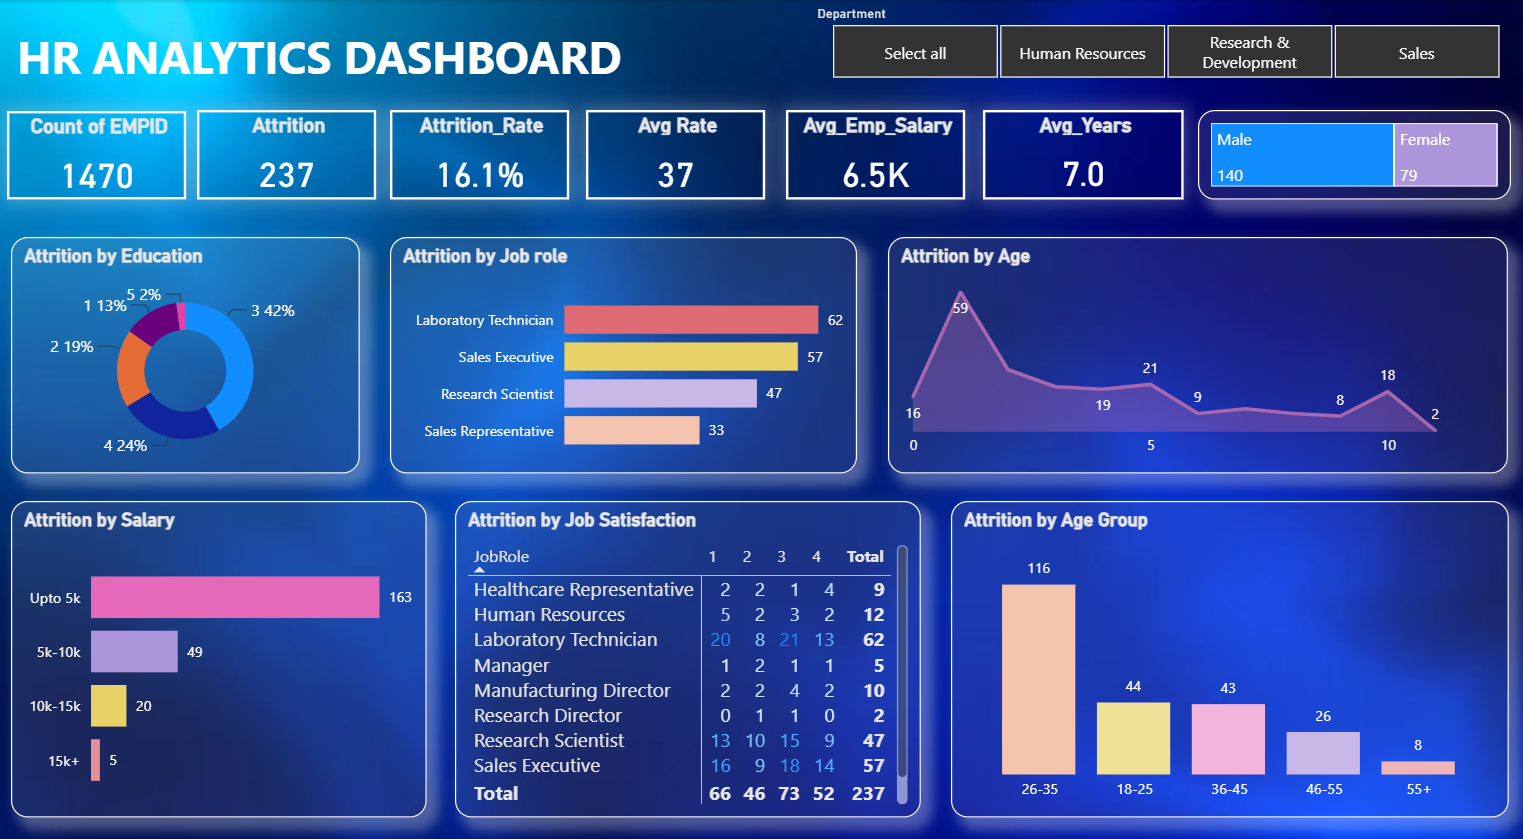

The dashboard page shown, as its layout file describes it:
{"tool":"powerbi","page":{"name":"Page 1","canvas":[1280,720],"ordinal":0},"visuals":[{"type":"card","title":"Count of EMPID","fields":{"Values":["CountNonNull(HR_Analytics.EmpID)"]},"box":[6.4,92.6,150.4,74.3],"z":0},{"type":"card","title":"Attrition_Rate","fields":{"Values":["HR_Analytics.Attrition_rate"]},"box":[327.4,91.7,150,75],"z":1000},{"type":"card","title":"Attrition","fields":{"Values":["Sum(HR_Analytics.Attrition_Count)"]},"box":[165.8,91.7,150,75],"z":2000},{"type":"card","title":"Avg Rate","fields":{"Values":["Avg(HR_Analytics.Age)"]},"box":[491.1,91.7,150,75],"z":3000},{"type":"card","title":"Avg_Emp_Salary","fields":{"Values":["Avg(HR_Analytics.MonthlyIncome)"]},"box":[659.3,91.7,150,75],"z":4000},{"type":"card","title":"Avg_Years","fields":{"Values":["Avg(HR_Analytics.YearsAtCompany)"]},"box":[823.6,91.7,168,75],"z":5000},{"type":"donutChart","title":"Attrition by Education","fields":{"Category":["HR_Analytics.Education"],"Y":["Sum(HR_Analytics.Attrition_Count)"]},"box":[10.1,198.1,291.9,198],"z":6000},{"type":"clusteredColumnChart","title":"Attrition by Age Group","fields":{"Category":["HR_Analytics.AgeGroup"],"Y":["Sum(HR_Analytics.Attrition_Count)"]},"box":[796.8,419,466.7,265],"z":7000},{"type":"pivotTable","title":"Attrition by Job Satisfaction","fields":{"Rows":["HR_Analytics.JobRole"],"Columns":["HR_Analytics.JobSatisfaction"],"Values":["Sum(HR_Analytics.Attrition_Count)"]},"box":[381.4,419,389.7,265],"z":8000},{"type":"barChart","title":"Attrition by Salary","fields":{"Category":["HR_Analytics.SalarySlab"],"Y":["Sum(HR_Analytics.Attrition_Count)"]},"box":[10.1,419,347.5,265],"z":9000},{"type":"barChart","title":"Attrition by Job role","fields":{"Category":["HR_Analytics.JobRole"],"Y":["Sum(HR_Analytics.Attrition_Count)"]},"box":[327.3,198.1,390.6,198.1],"z":9001},{"type":"areaChart","title":"Attrition by Age","fields":{"Category":["HR_Analytics.YearsAtCompany"],"Y":["Sum(HR_Analytics.Attrition_Count)"]},"box":[744.5,198.1,519,198.1],"z":9002},{"type":"treemap","title":"Attrition by Age","fields":{"Group":["HR_Analytics.Gender"],"Values":["Sum(HR_Analytics.Attrition_Count)"]},"box":[1003.9,91.7,261.6,75],"z":9003},{"type":"slicer","fields":{"Values":["HR_Analytics.Department"]},"box":[672.3,0,607.7,68.8],"z":9004},{"type":"textbox","box":[10.1,16.5,649.2,59.6],"z":9005}]}

Visuals, with their boxes in screenshot pixels (x1, y1, x2, y2), scaled from the page's 1280x720 canvas onto the 1523x839 screenshot:
"Count of EMPID" card: box(8, 108, 187, 194)
"Attrition_Rate" card: box(390, 107, 568, 194)
"Attrition" card: box(197, 107, 376, 194)
"Avg Rate" card: box(584, 107, 763, 194)
"Avg_Emp_Salary" card: box(784, 107, 963, 194)
"Avg_Years" card: box(980, 107, 1180, 194)
"Attrition by Education" donutChart: box(12, 231, 359, 462)
"Attrition by Age Group" clusteredColumnChart: box(948, 488, 1503, 797)
"Attrition by Job Satisfaction" pivotTable: box(454, 488, 917, 797)
"Attrition by Salary" barChart: box(12, 488, 425, 797)
"Attrition by Job role" barChart: box(389, 231, 854, 462)
"Attrition by Age" areaChart: box(886, 231, 1503, 462)
"Attrition by Age" treemap: box(1194, 107, 1506, 194)
slicer - HR_Analytics.Department: box(800, 0, 1522, 80)
textbox: box(12, 19, 784, 89)
